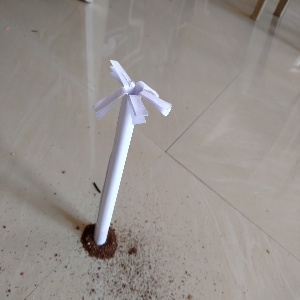weed: (82, 57, 172, 244)
